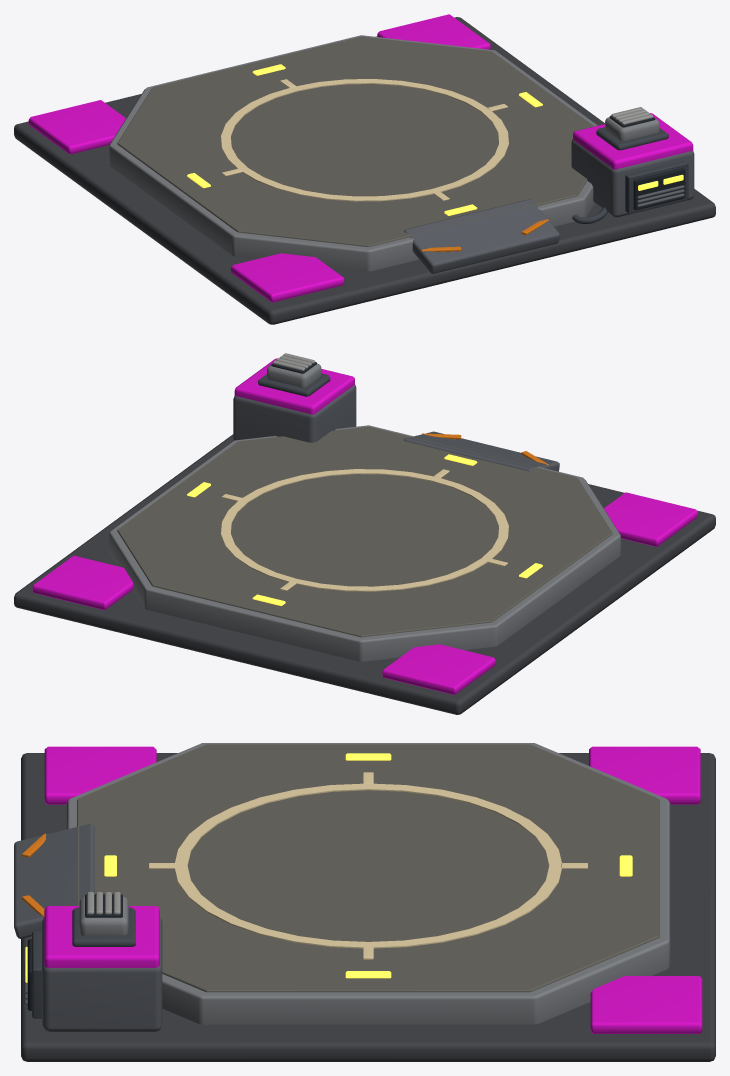
The model's file is helipad.glb.
3 renders of one model, top to bottom at view 1: azimuth 30°, elevation 25°; view 2: azimuth 150°, elevation 25°; view 3: azimuth 270°, elevation 25°, orthographic. The views are drawn at different scales.
Visible parts, largest first — view 1: Helipad.001; view 2: Helipad.001; view 3: Helipad.001.
Boxes of the visible parts, left/top/right/bottom form: Helipad.001: left=14, top=14, right=715, bottom=324; Helipad.001: left=14, top=353, right=715, bottom=714; Helipad.001: left=14, top=743, right=715, bottom=1061.
Size of the model in its own units: 4.1 by 0.827 by 4.14.
